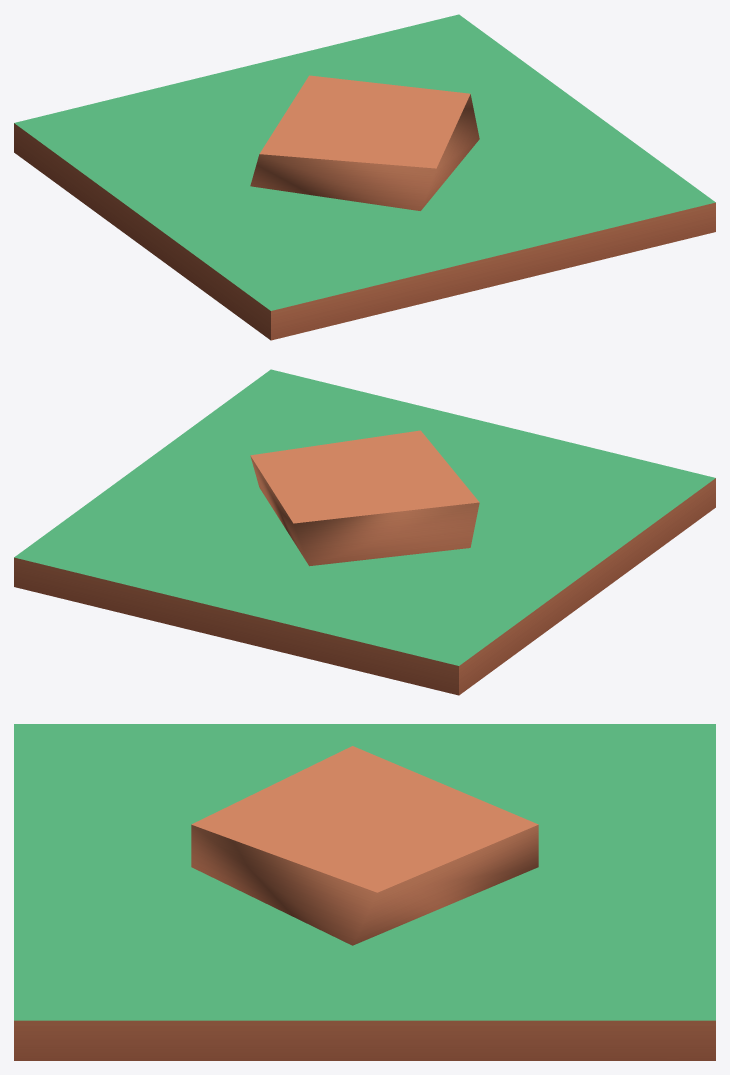
File: cc0-obstacle-diamond-lod1.glb
3 views of the same model, one above another, from view 1: azimuth 30°, elevation 25°; view 2: azimuth 150°, elevation 25°; view 3: azimuth 270°, elevation 25° (orthographic). The views are drawn at different scales.
Parts seen in each view (by area): view 1: part_0; view 2: part_0; view 3: part_0.
Boxes of the visible parts, x1,y1,x2,y2 form: part_0: (14, 14, 715, 340); part_0: (14, 369, 715, 695); part_0: (14, 724, 715, 1060).
Bounding box in the file's own units: 0.9999 × 0.1467 × 0.9999.
1 material, 1 textured.
